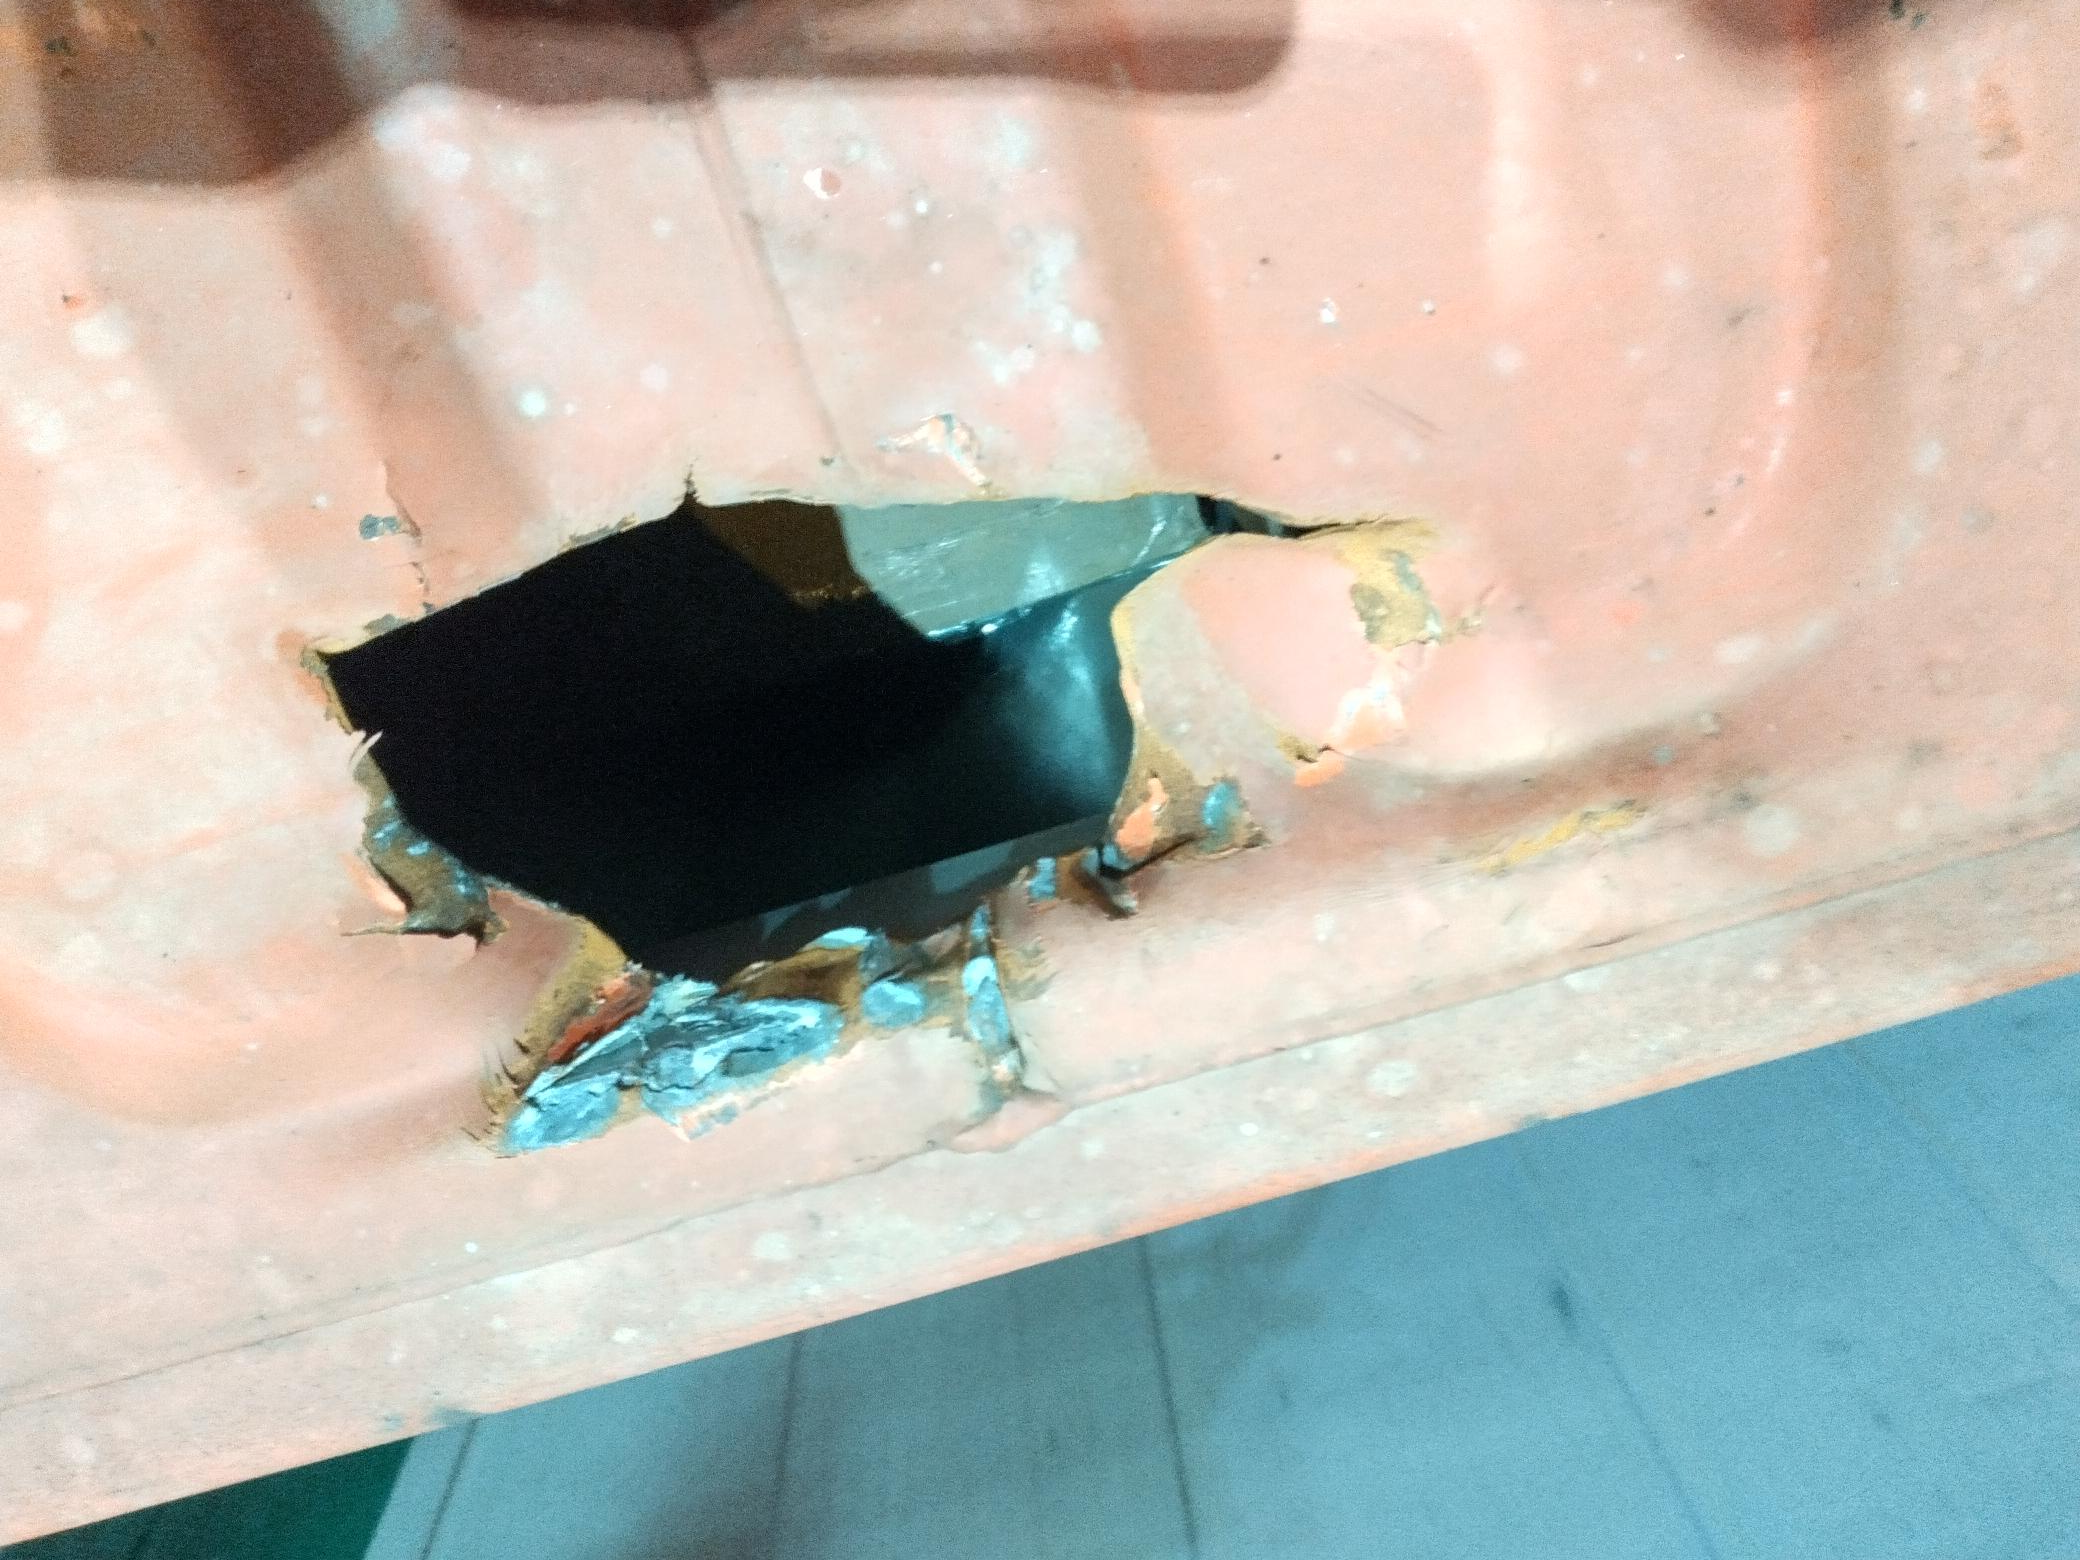hole: (270, 401, 1512, 1054)
